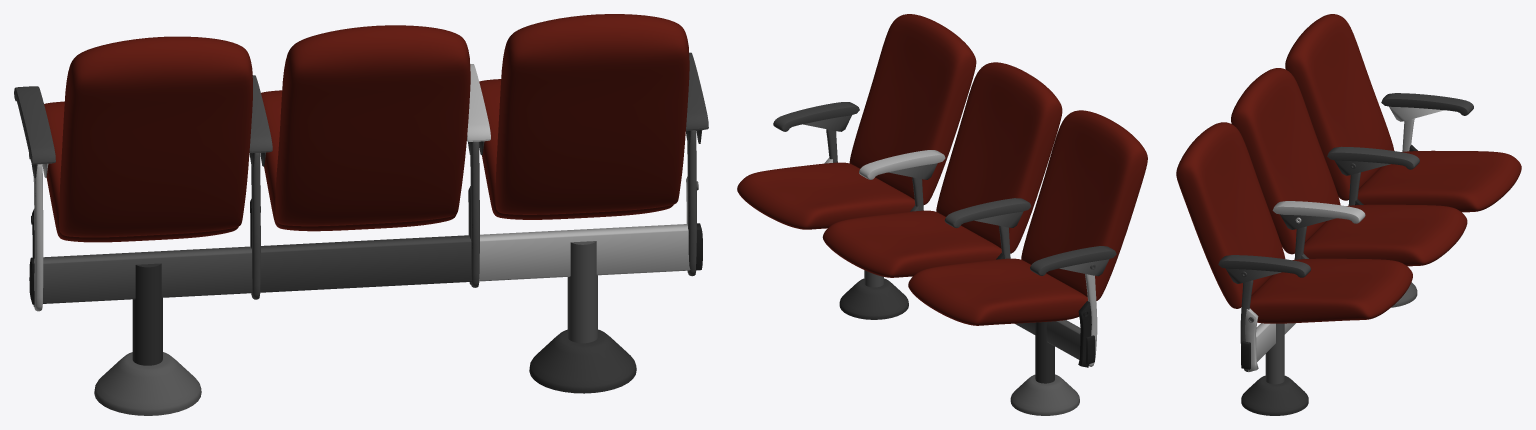
The model's file is chair.fbx.
3 renders of one model, left to right at view 1: azimuth 30°, elevation 25°; view 2: azimuth 150°, elevation 25°; view 3: azimuth 270°, elevation 25°, orthographic. The views are drawn at different scales.
Visible parts, largest first — view 1: bmerge10; view 2: bmerge10; view 3: bmerge10.
Part boxes in pixels (left/top/right/bottom): bmerge10: left=14, top=14, right=708, bottom=415; bmerge10: left=737, top=14, right=1147, bottom=415; bmerge10: left=1176, top=14, right=1521, bottom=415.
Bounding box in the file's own units: 12.52 × 8.02 × 9.82.
